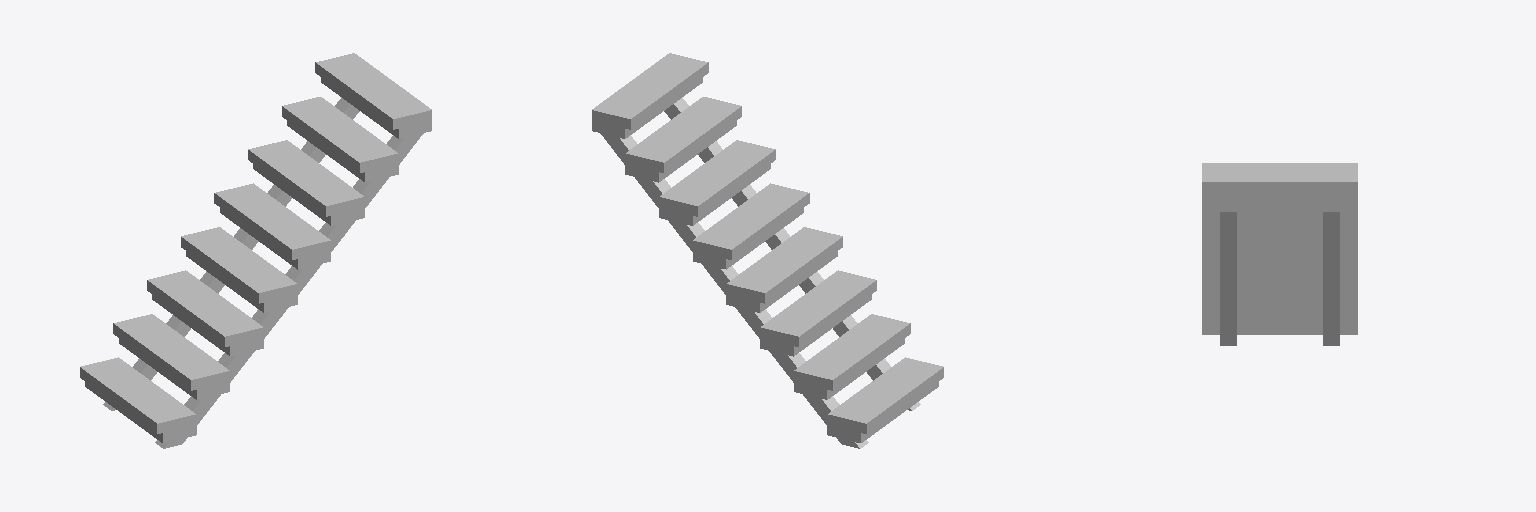
Rendered from stairs-wood.obj.
The picture shows the model from 3 angles: view 1: azimuth 30°, elevation 25°; view 2: azimuth 150°, elevation 25°; view 3: azimuth 270°, elevation 25°; orthographic projection.
Visible parts, largest first — view 1: stairs-wood; view 2: stairs-wood; view 3: stairs-wood.
Part boxes in pixels (x1,y1,x2,y2): stairs-wood: (80,53,431,448); stairs-wood: (592,53,943,448); stairs-wood: (1202,163,1357,345).
Size of the model in its own units: 1.02 by 1 by 0.5.